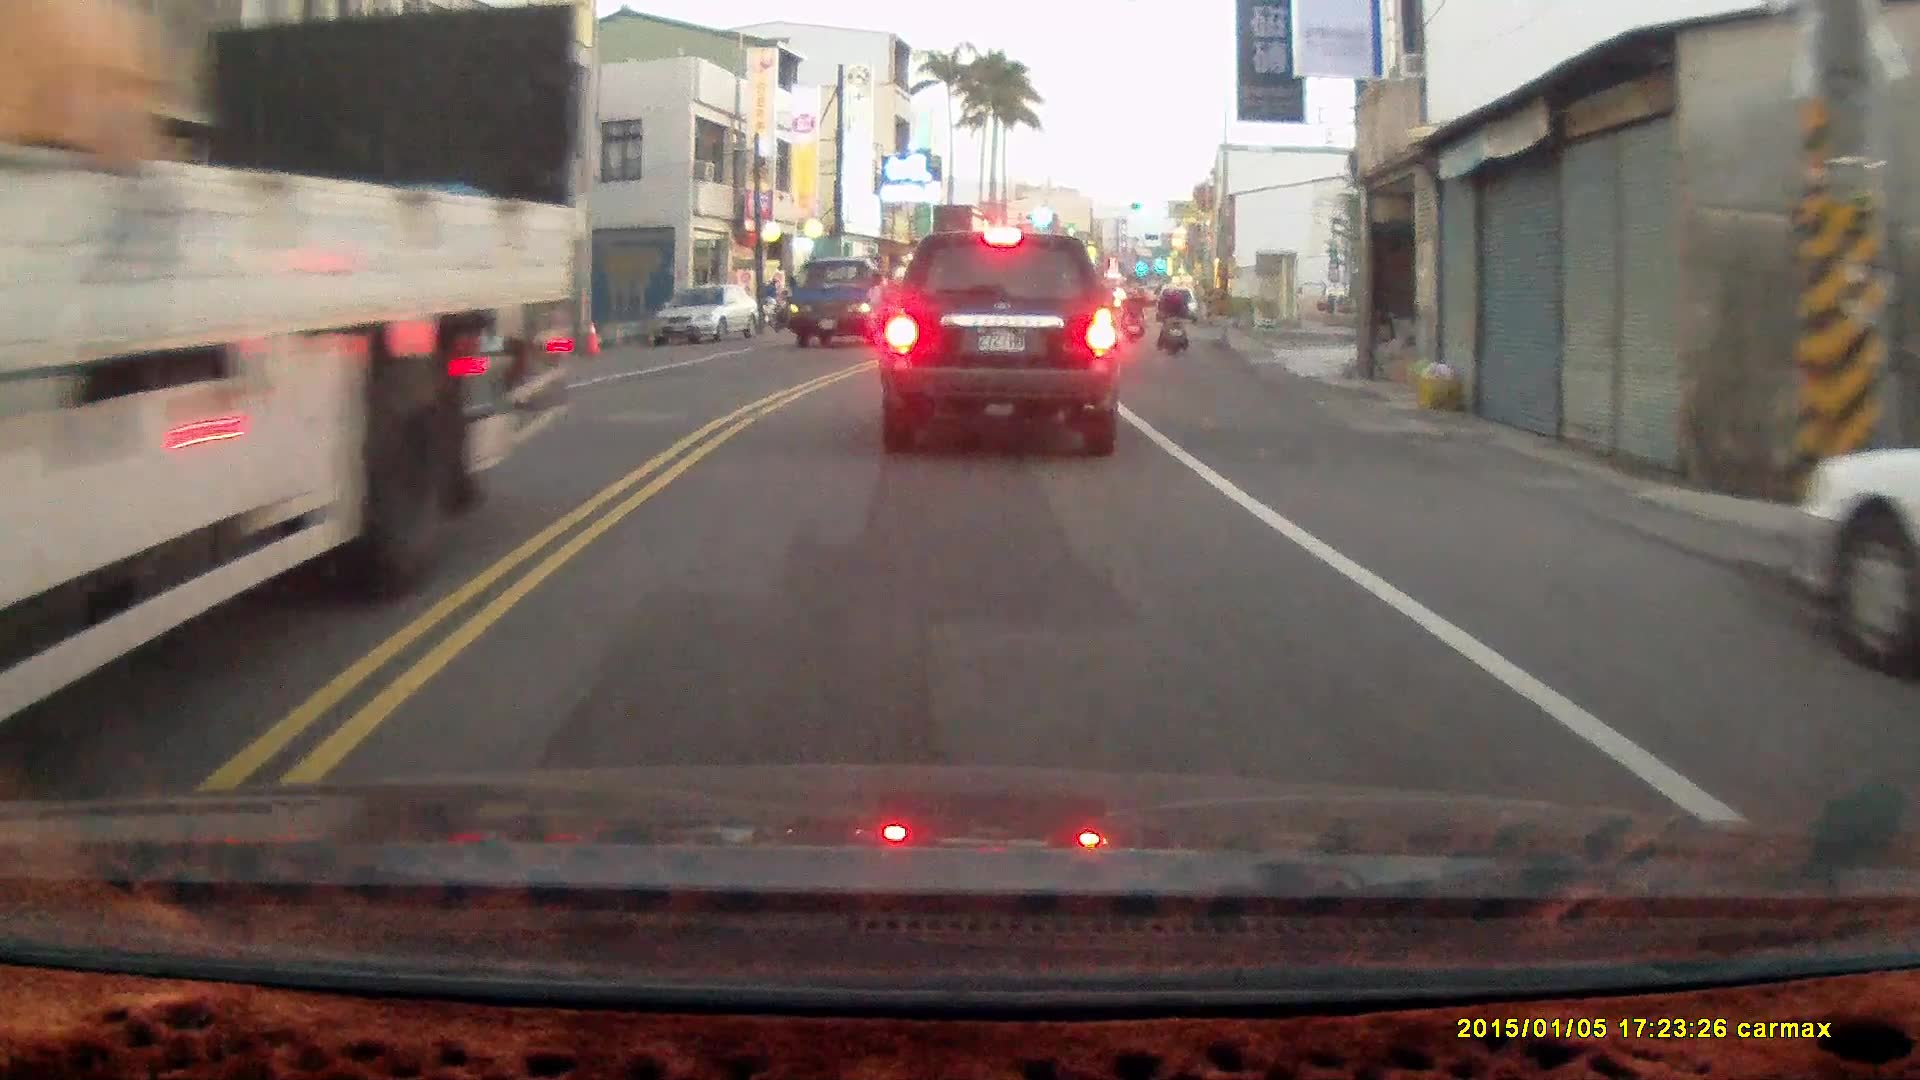rider: (1155, 277, 1186, 357), (1119, 280, 1146, 344)
vehicle: (1, 0, 565, 785), (879, 228, 1125, 459), (1785, 436, 1920, 681), (785, 256, 906, 353), (650, 284, 760, 346)
